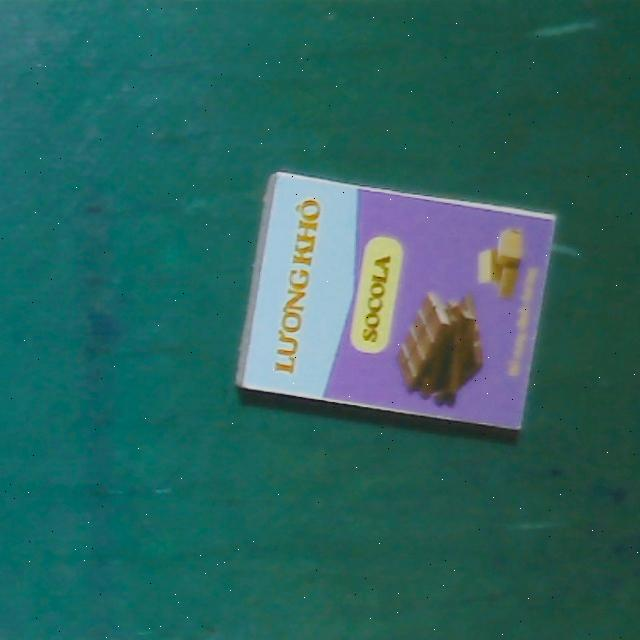socola: (235, 172, 555, 429)
